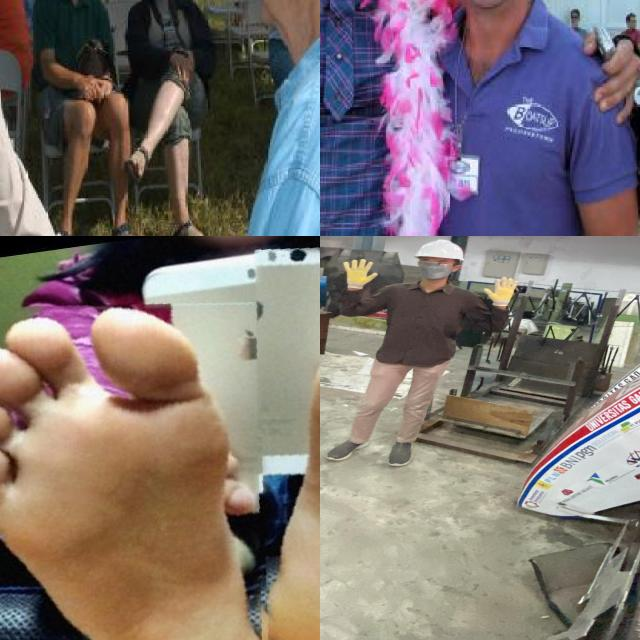Barefoots: (0, 286, 271, 640)
face_mask: (418, 257, 452, 281)
glasses: (414, 259, 459, 267)
hand_glove: (478, 274, 520, 304), (339, 258, 382, 286)
hand_noglove: (575, 25, 640, 125), (80, 72, 112, 104), (169, 49, 197, 82)
head_helmet: (414, 239, 466, 261)
person: (404, 0, 640, 236), (320, 236, 526, 467), (320, 0, 444, 236), (31, 0, 140, 236), (121, 0, 224, 236), (232, 0, 320, 236)
shoes: (321, 436, 372, 462), (382, 437, 418, 468)
